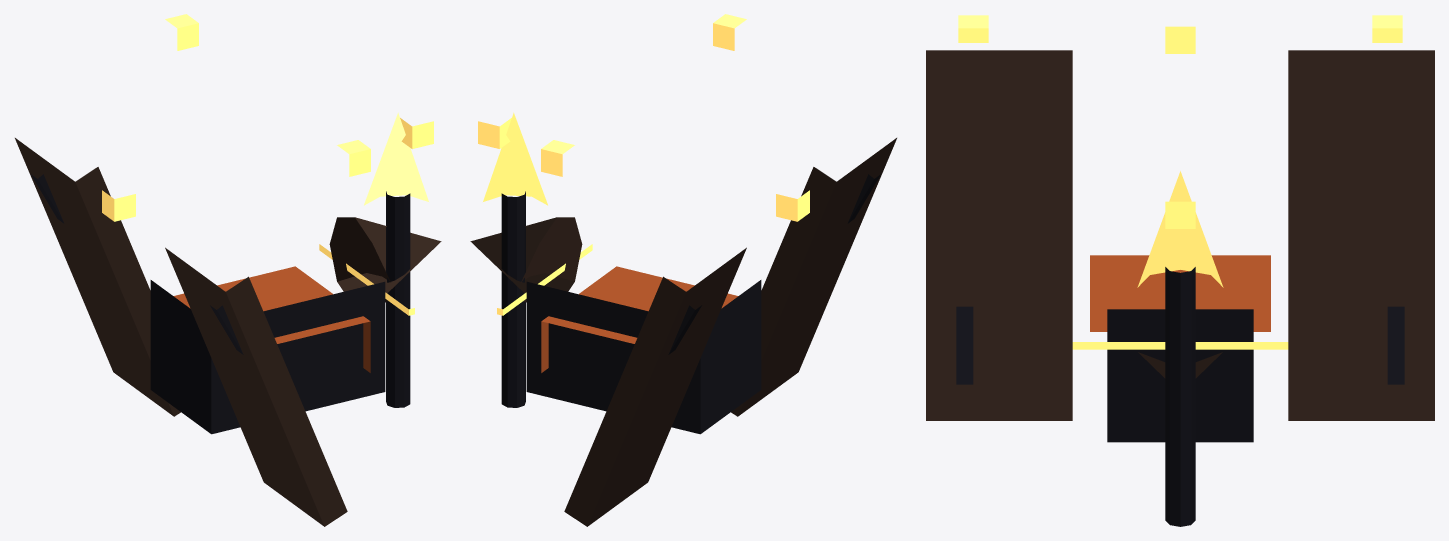
The model's file is batrider.glb.
3 views of the same model, side by side, from view 1: azimuth 30°, elevation 25°; view 2: azimuth 150°, elevation 25°; view 3: azimuth 270°, elevation 25° (orthographic). The views are drawn at different scales.
Parts seen in each view (by area): view 1: batrider-replacement-bat-body, batrider-wing-l, batrider-wing-r, batrider-torch, batrider-replacement-bat-head, batrider-saddle, batrider-torch-flame, batrider-flair-mote-2, batrider-flair-mote-1, batrider-flair-mote-3, batrider-flair-mote-0; view 2: batrider-replacement-bat-body, batrider-wing-r, batrider-wing-l, batrider-torch, batrider-replacement-bat-head, batrider-saddle, batrider-torch-flame, batrider-flair-mote-2, batrider-flair-mote-1, batrider-flair-mote-3, batrider-flair-mote-0; view 3: batrider-wing-l, batrider-wing-r, batrider-replacement-bat-body, batrider-saddle, batrider-torch, batrider-torch-flame, batrider-reins, batrider-wing-strut-l, batrider-wing-strut-r, batrider-flair-mote-0, batrider-flair-mote-1, batrider-flair-mote-2 (+1 smaller).
Part boxes in pixels (x1,y1,x2,y2): batrider-replacement-bat-body: [150, 280, 385, 434]; batrider-wing-l: [165, 247, 347, 526]; batrider-wing-r: [15, 138, 180, 416]; batrider-torch: [386, 191, 410, 407]; batrider-replacement-bat-head: [329, 217, 441, 302]; batrider-saddle: [173, 266, 370, 372]; batrider-torch-flame: [364, 112, 428, 205]; batrider-flair-mote-2: [102, 190, 135, 221]; batrider-flair-mote-1: [337, 140, 370, 176]; batrider-flair-mote-3: [165, 14, 198, 50]; batrider-flair-mote-0: [400, 118, 433, 148]; batrider-replacement-bat-body: [526, 280, 761, 434]; batrider-wing-r: [564, 247, 746, 526]; batrider-wing-l: [731, 138, 896, 416]; batrider-torch: [501, 191, 525, 407]; batrider-replacement-bat-head: [470, 217, 582, 302]; batrider-saddle: [541, 266, 738, 372]; batrider-torch-flame: [483, 112, 547, 205]; batrider-flair-mote-2: [776, 190, 809, 221]; batrider-flair-mote-1: [713, 14, 746, 50]; batrider-flair-mote-3: [541, 140, 574, 176]; batrider-flair-mote-0: [478, 118, 511, 148]; batrider-wing-l: [926, 50, 1072, 420]; batrider-wing-r: [1288, 50, 1434, 420]; batrider-replacement-bat-body: [1107, 309, 1253, 442]; batrider-saddle: [1090, 255, 1270, 331]; batrider-torch: [1165, 267, 1195, 526]; batrider-torch-flame: [1137, 171, 1223, 287]; batrider-reins: [1072, 342, 1288, 349]; batrider-wing-strut-l: [956, 306, 973, 384]; batrider-wing-strut-r: [1387, 306, 1404, 384]; batrider-flair-mote-0: [1165, 201, 1195, 228]; batrider-flair-mote-1: [958, 15, 988, 42]; batrider-flair-mote-2: [1165, 26, 1195, 53].
Bounding box in the file's own units: 1.07 × 1.09 × 1.18.
